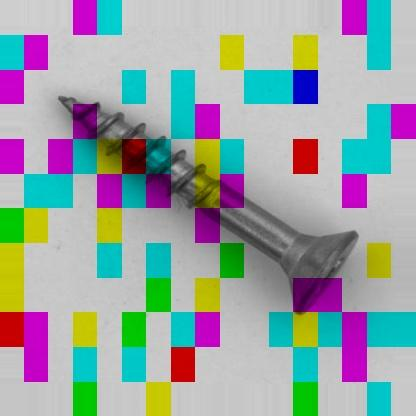metal: (56, 95, 363, 315)
